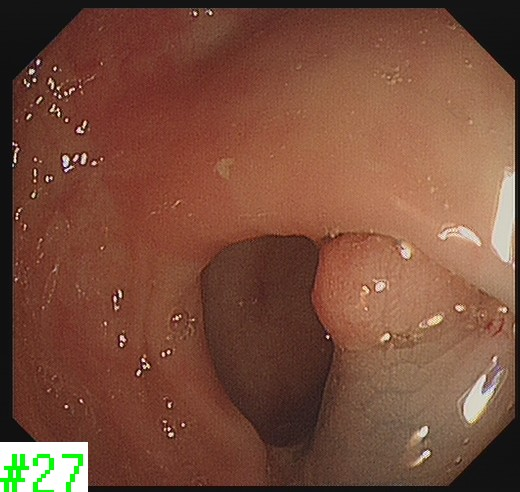adenoma: (306, 231, 421, 351)
